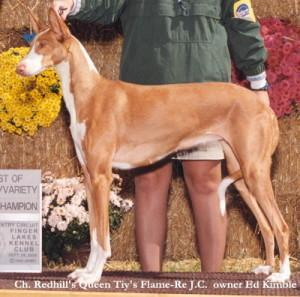Ibizan_hound: (14, 7, 294, 290)
